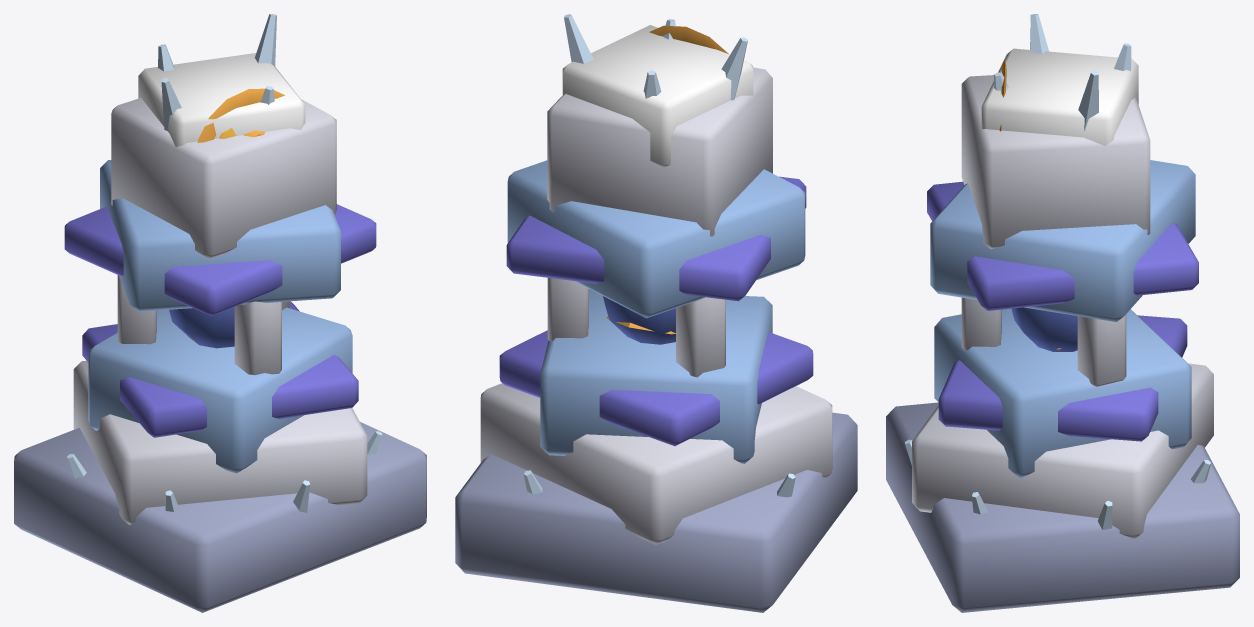
The model's file is frost_sentinel.glb.
3 renders of one model, left to right at view 1: azimuth 30°, elevation 25°; view 2: azimuth 150°, elevation 25°; view 3: azimuth 270°, elevation 25°, orthographic. The views are drawn at different scales.
Visible parts, largest first — view 1: FrostSentinel; view 2: FrostSentinel; view 3: FrostSentinel.
Part boxes in pixels (x1,y1,x2,y2): FrostSentinel: (14, 14, 426, 612); FrostSentinel: (455, 14, 857, 612); FrostSentinel: (886, 14, 1239, 612).
Bounding box in the file's own units: 2.69 × 4 × 2.53.
1 material, 1 textured.
